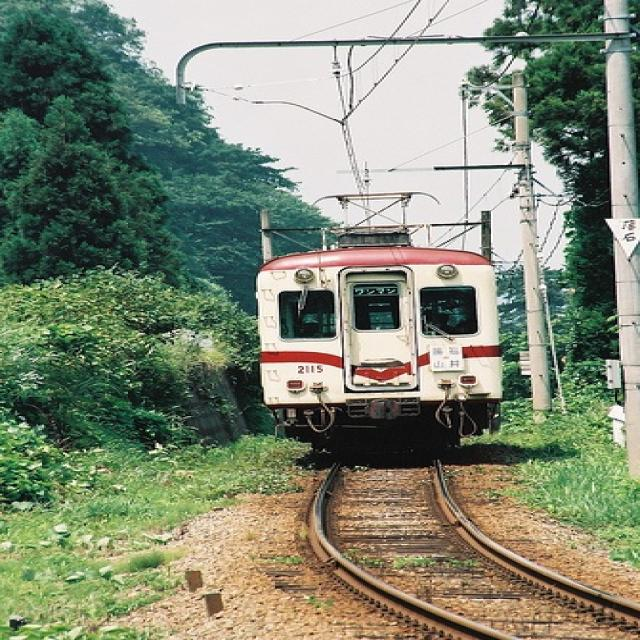train: (256, 190, 504, 456)
